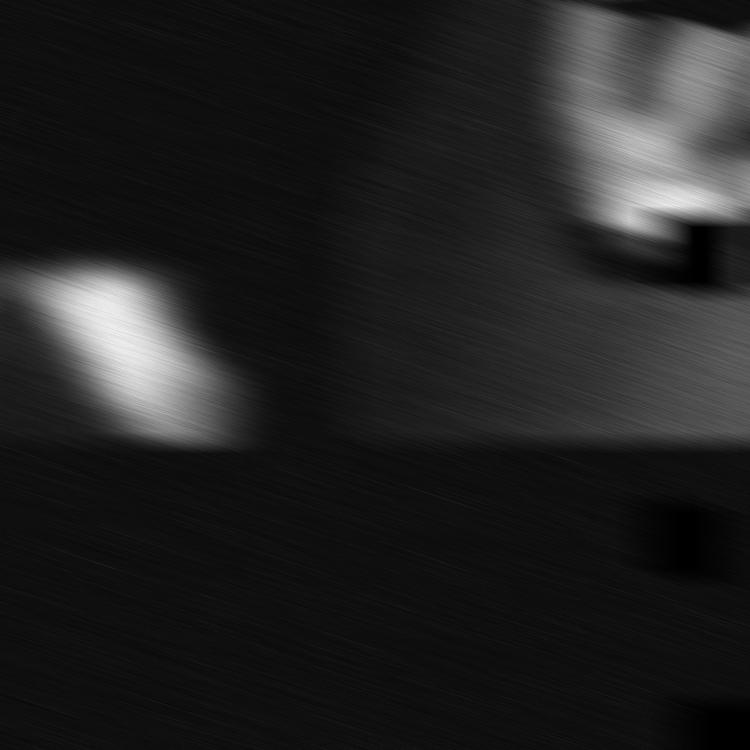Airbag: (338, 0, 750, 444), (0, 0, 352, 444)
